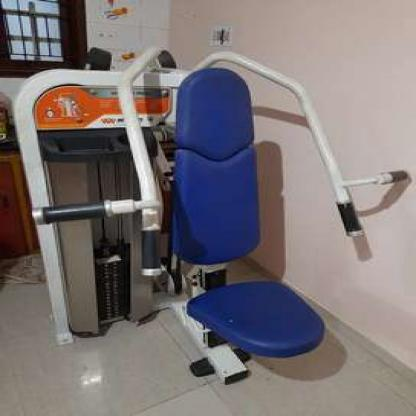shoulder press machine: (15, 47, 411, 389)
